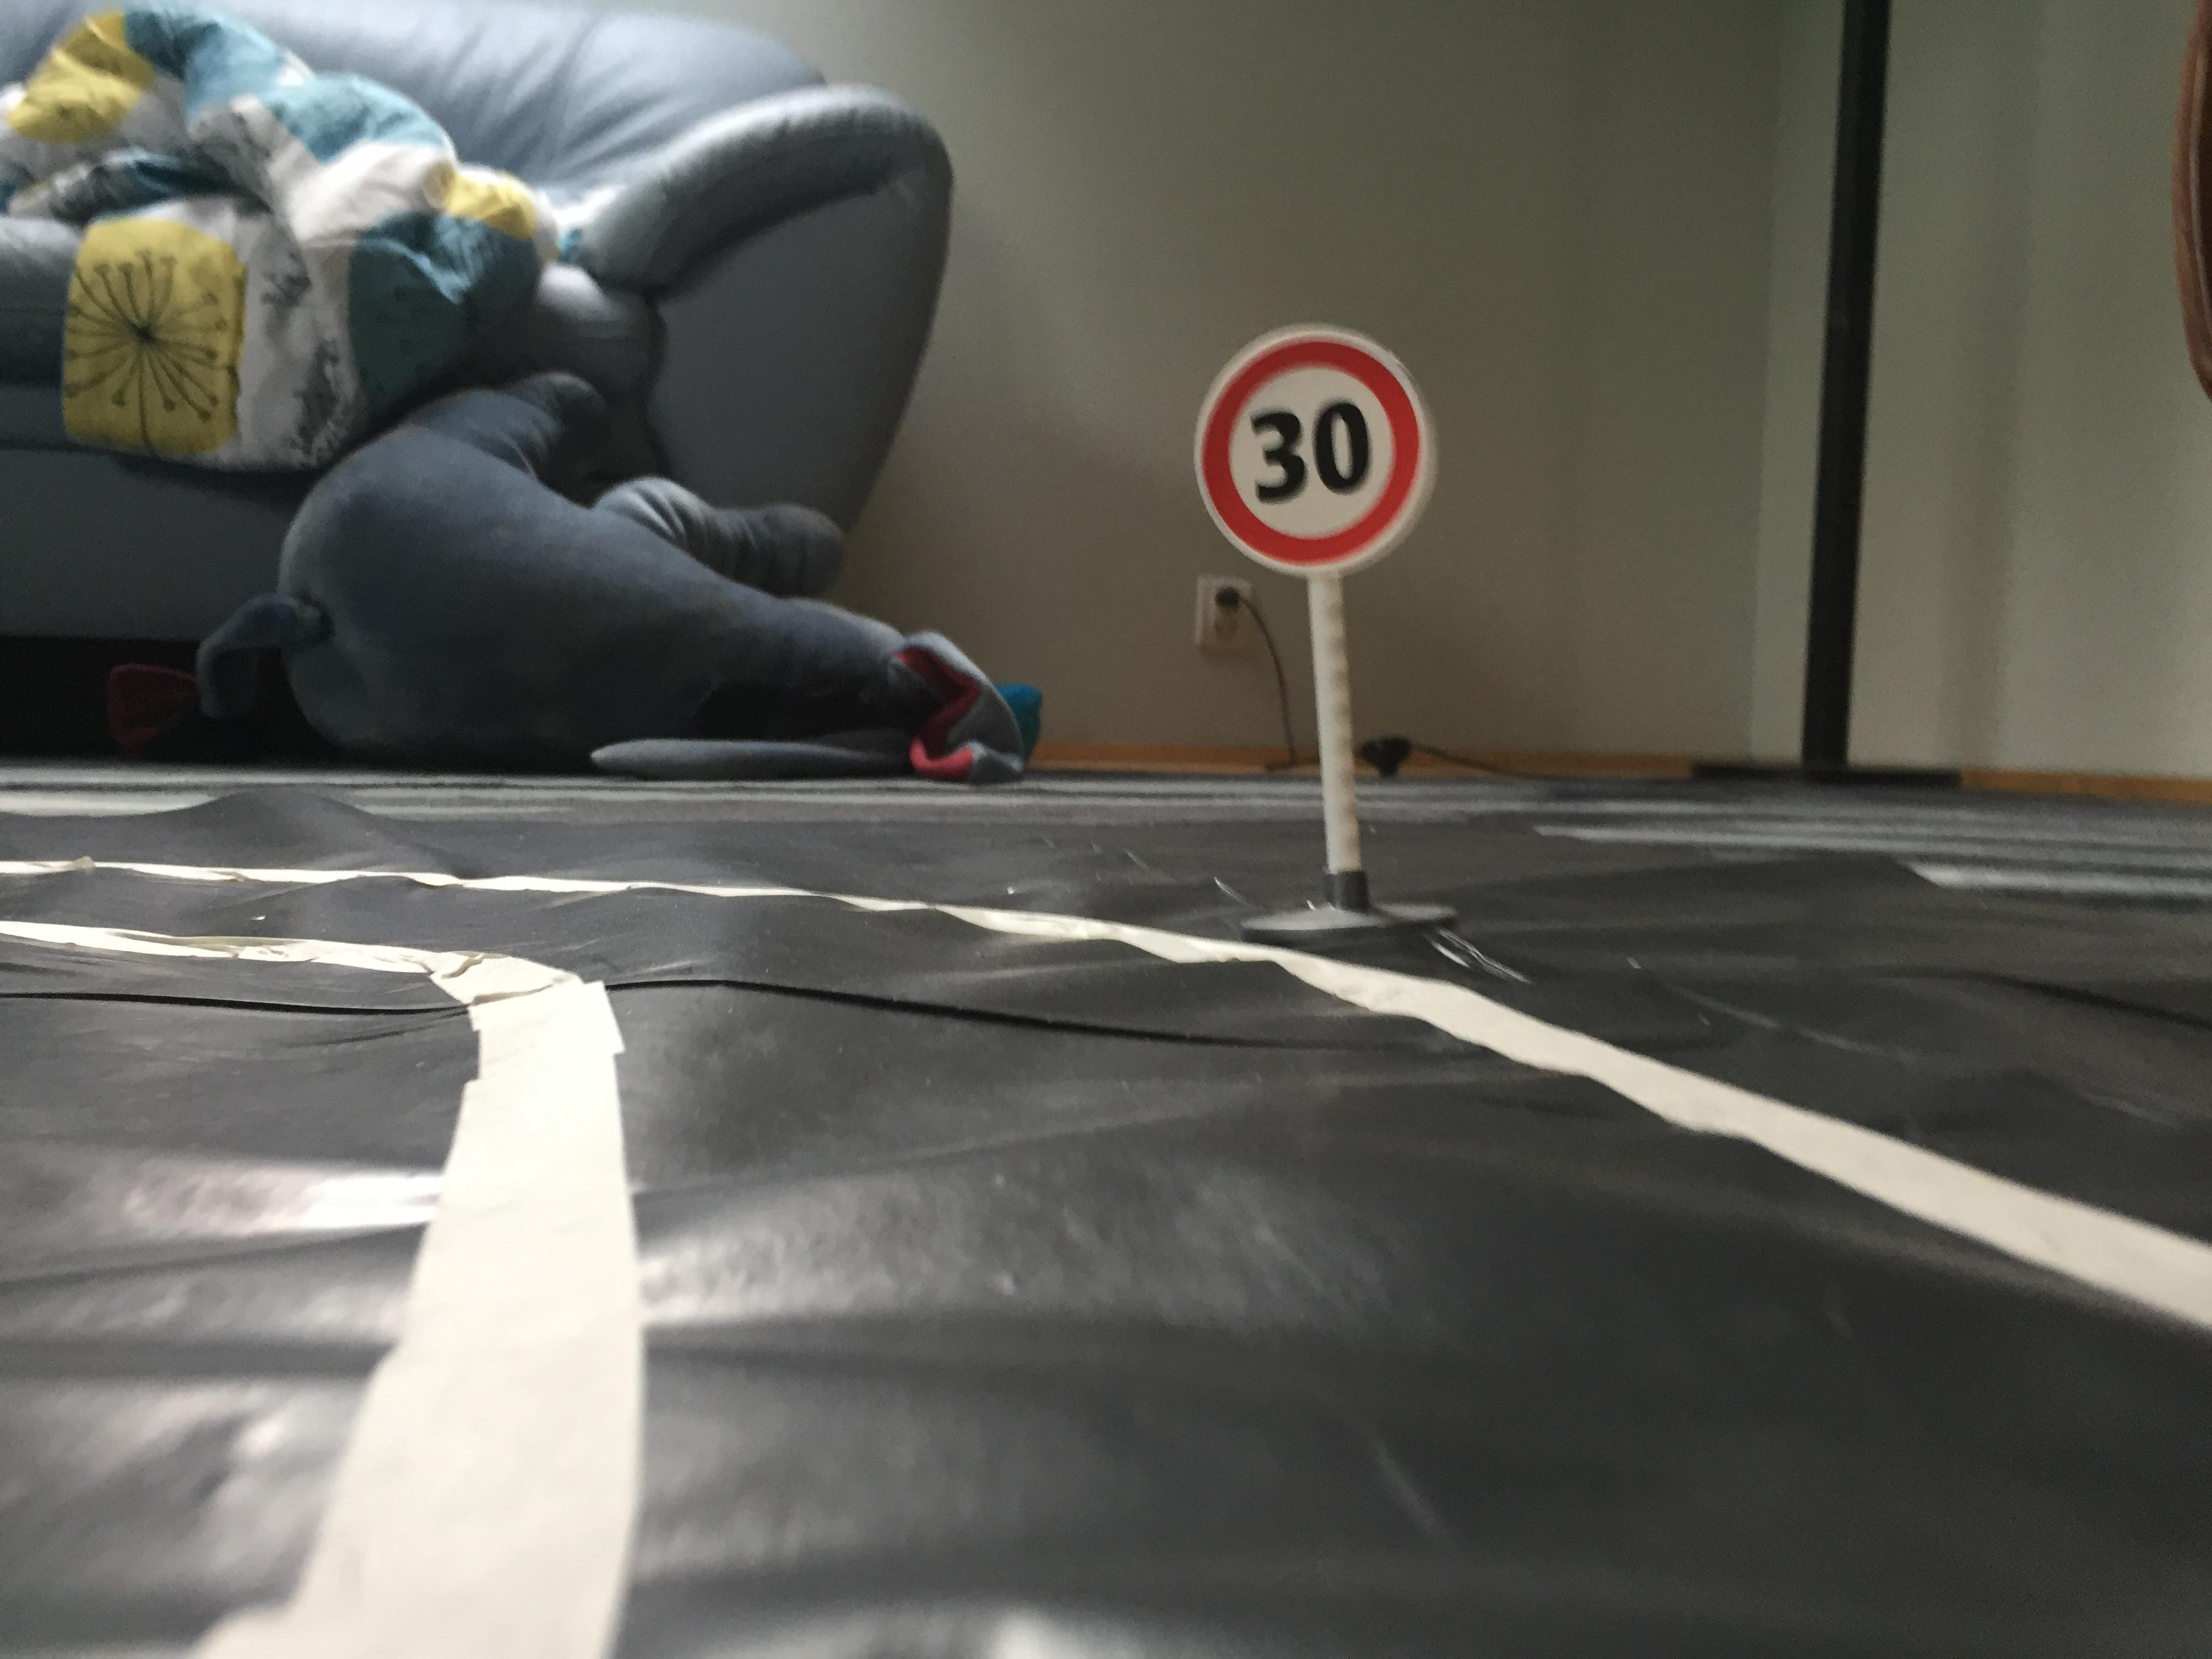speed: (1183, 308, 1446, 582)
